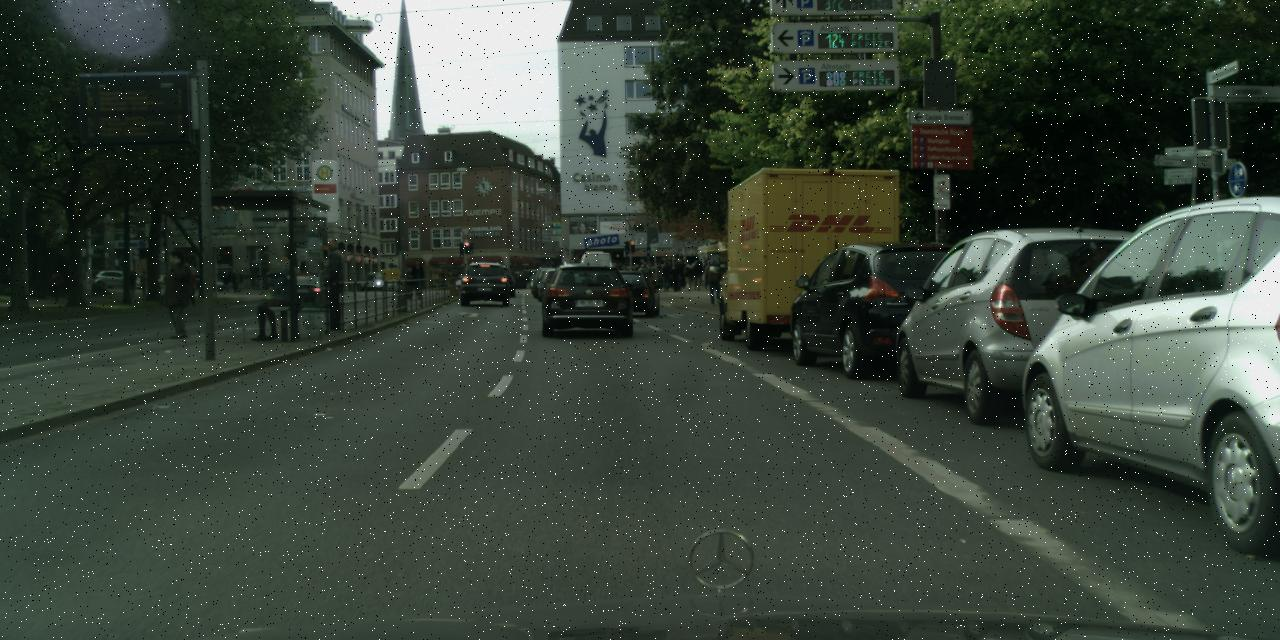ped: (312, 235, 350, 328), (158, 249, 195, 339), (657, 257, 707, 292), (704, 254, 722, 302), (409, 258, 425, 298), (181, 266, 197, 306), (222, 268, 245, 294), (632, 261, 656, 282), (49, 268, 62, 301), (126, 269, 136, 295), (140, 272, 150, 296), (619, 264, 630, 270)
